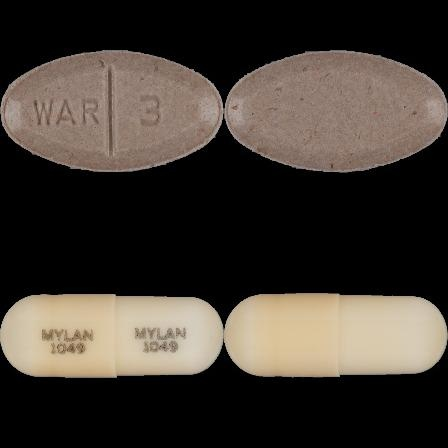49349-852: (0, 0, 224, 224)
